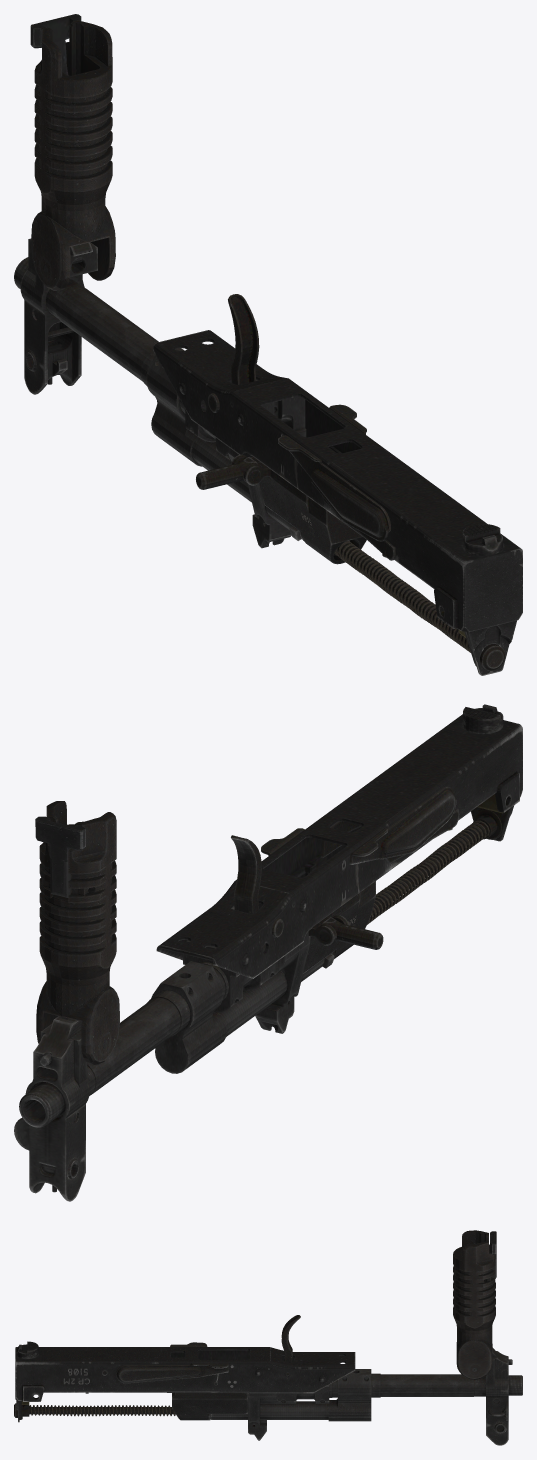
3 views of the same model, one above another, from view 1: azimuth 30°, elevation 25°; view 2: azimuth 150°, elevation 25°; view 3: azimuth 270°, elevation 25° (orthographic). The views are drawn at different scales.
Parts seen in each view (by area): view 1: TW_62e14904c2699c0ec93adc47_PZ_Import; view 2: TW_62e14904c2699c0ec93adc47_PZ_Import; view 3: TW_62e14904c2699c0ec93adc47_PZ_Import.
Part boxes in pixels (box(x1,y1,x2,y2)): TW_62e14904c2699c0ec93adc47_PZ_Import: box(14, 14, 522, 675); TW_62e14904c2699c0ec93adc47_PZ_Import: box(14, 704, 522, 1201); TW_62e14904c2699c0ec93adc47_PZ_Import: box(14, 1230, 522, 1445).
Size of the model in its own units: 0.0341 by 0.2044 by 0.09.
Materials: 1 (1 with a texture image).
